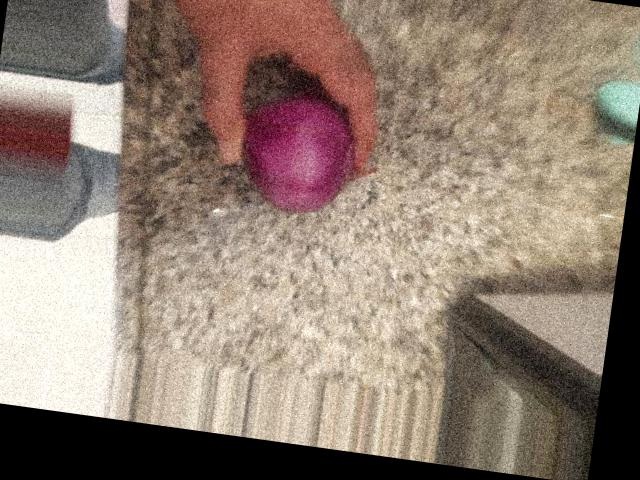onion: (221, 79, 358, 212)
